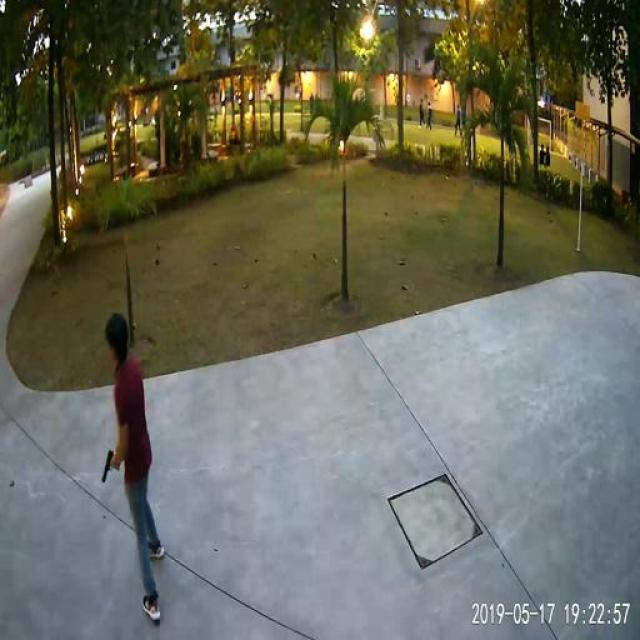Gun: (88, 442, 124, 493)
